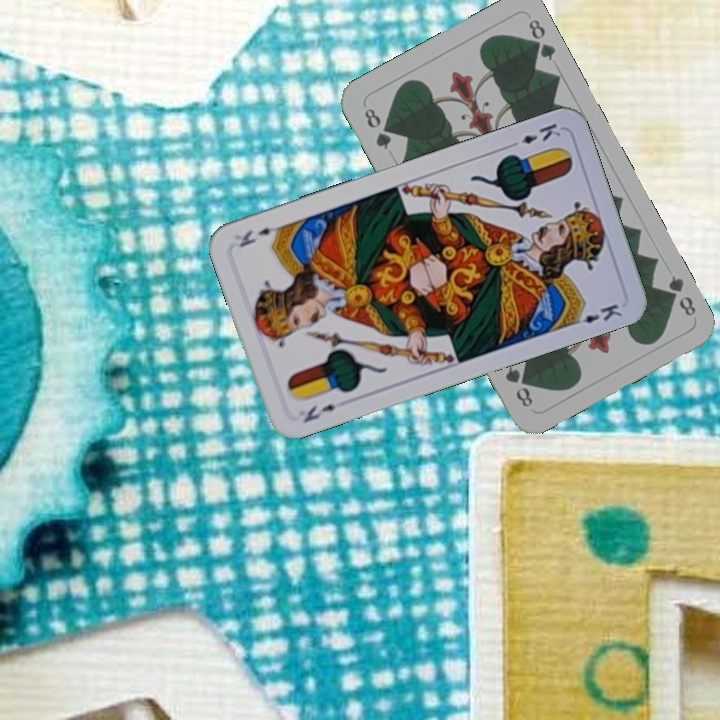EK: (505, 119, 564, 151), (299, 400, 338, 426)
G8: (659, 271, 699, 319), (360, 104, 394, 152)
